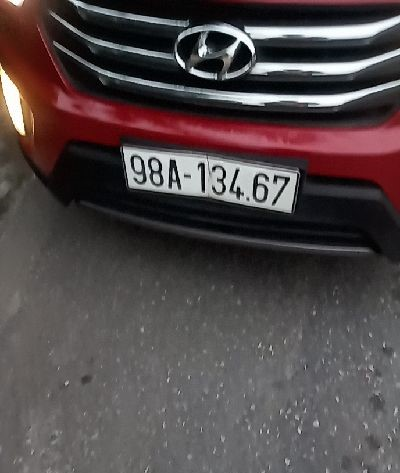number_plate: (101, 133, 315, 242)
